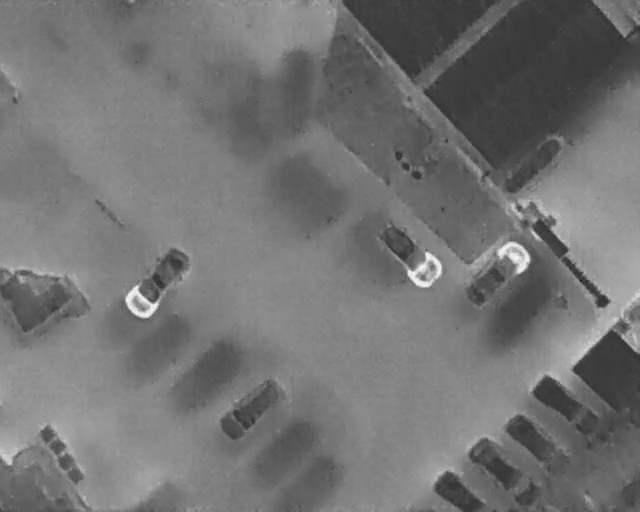Car: (118, 239, 198, 325), (368, 212, 450, 294), (464, 431, 547, 511), (454, 234, 536, 314), (526, 369, 607, 441), (213, 371, 291, 445), (499, 408, 572, 476), (430, 470, 489, 511)
